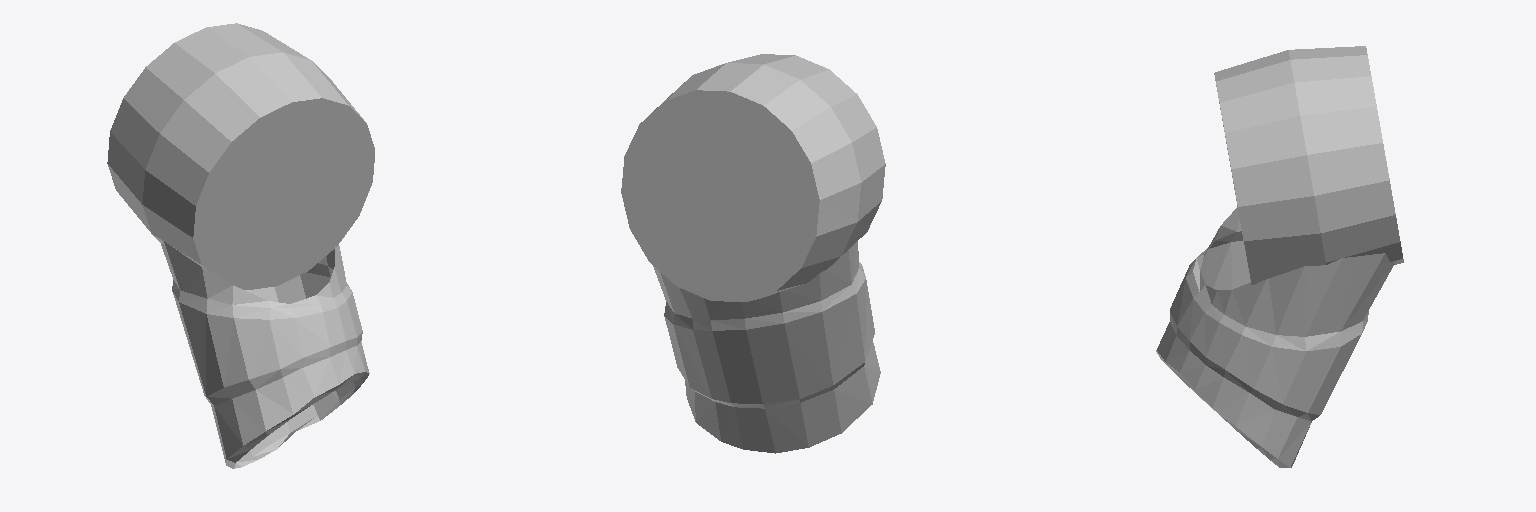
Rendered from LThumb1.obj.
3 renders of one model, left to right at view 1: azimuth 30°, elevation 25°; view 2: azimuth 150°, elevation 25°; view 3: azimuth 270°, elevation 25°, orthographic.
Parts seen in each view (by area): view 1: LThumb1_LThumb1; view 2: LThumb1_LThumb1; view 3: LThumb1_LThumb1.
Boxes of the visible parts, <box> form: LThumb1_LThumb1: <box>107,23,374,468</box>; LThumb1_LThumb1: <box>621,54,885,453</box>; LThumb1_LThumb1: <box>1156,46,1403,467</box>.
Bounding box in the file's own units: 0.0321 × 0.0595 × 0.0338.